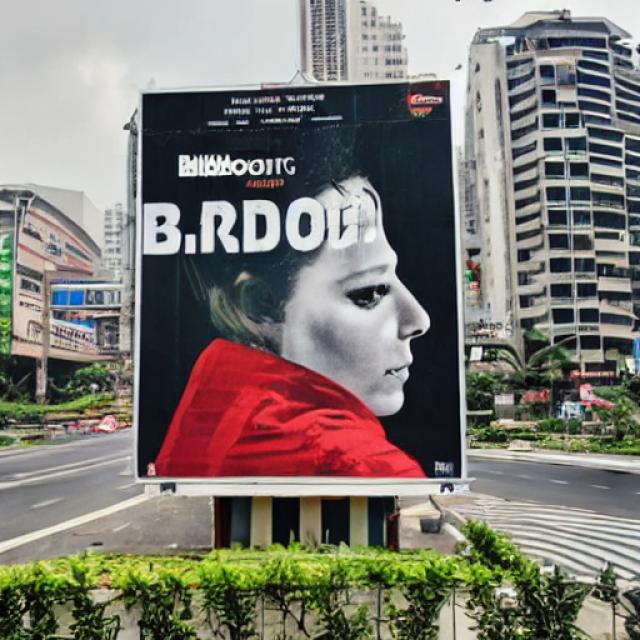Billboard: (129, 74, 472, 488)
